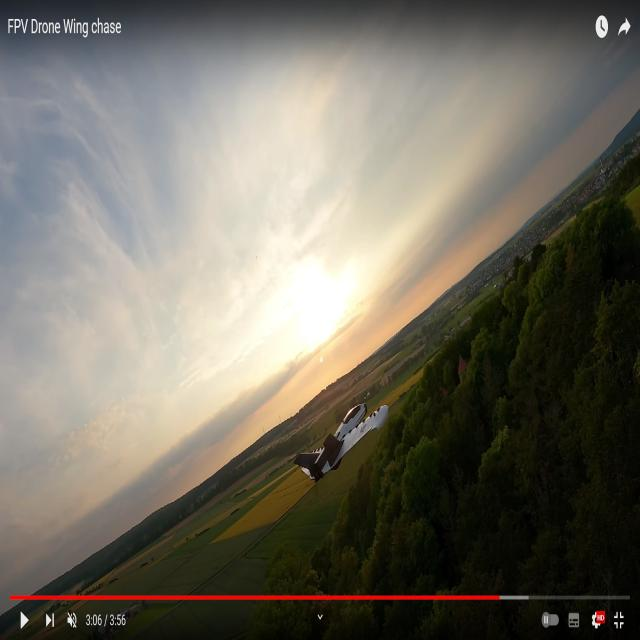iha: (335, 433, 351, 455)
